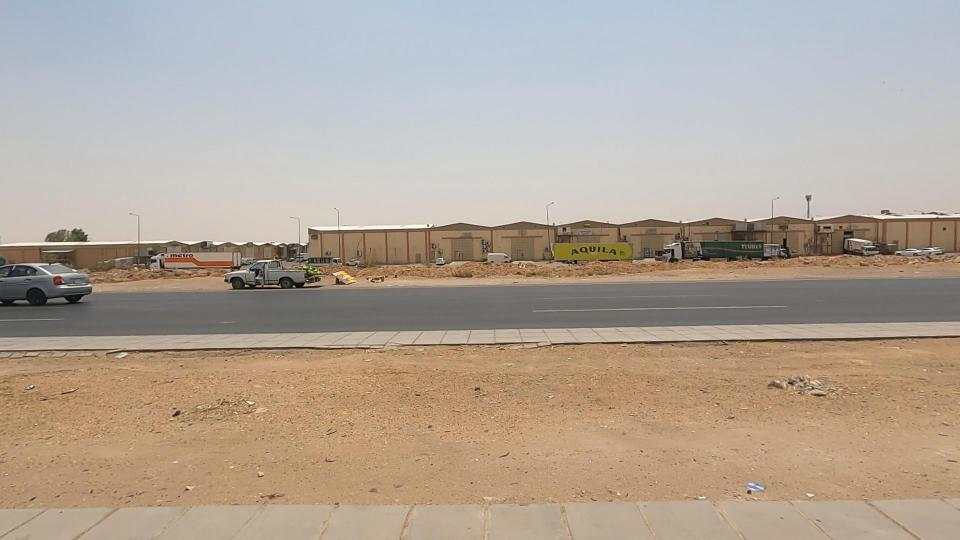GARBAGE: (720, 459, 790, 519), (344, 260, 410, 303), (92, 333, 149, 376), (318, 259, 366, 296)
